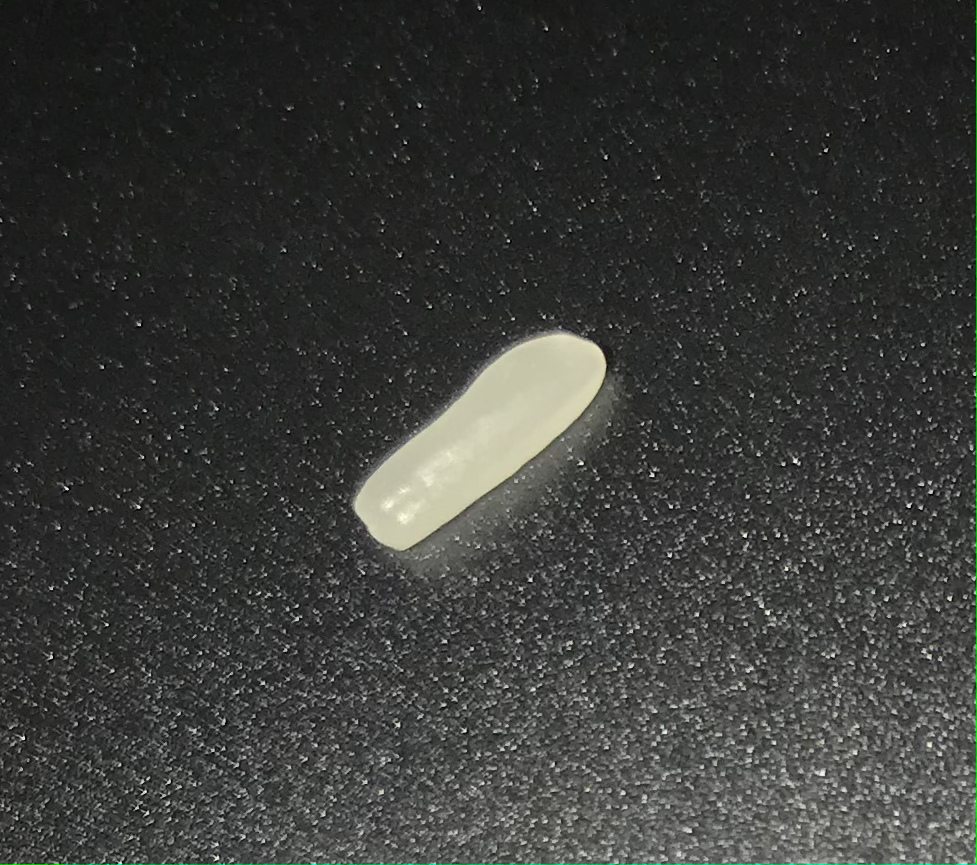Gao Thom My: (350, 319, 615, 535)
